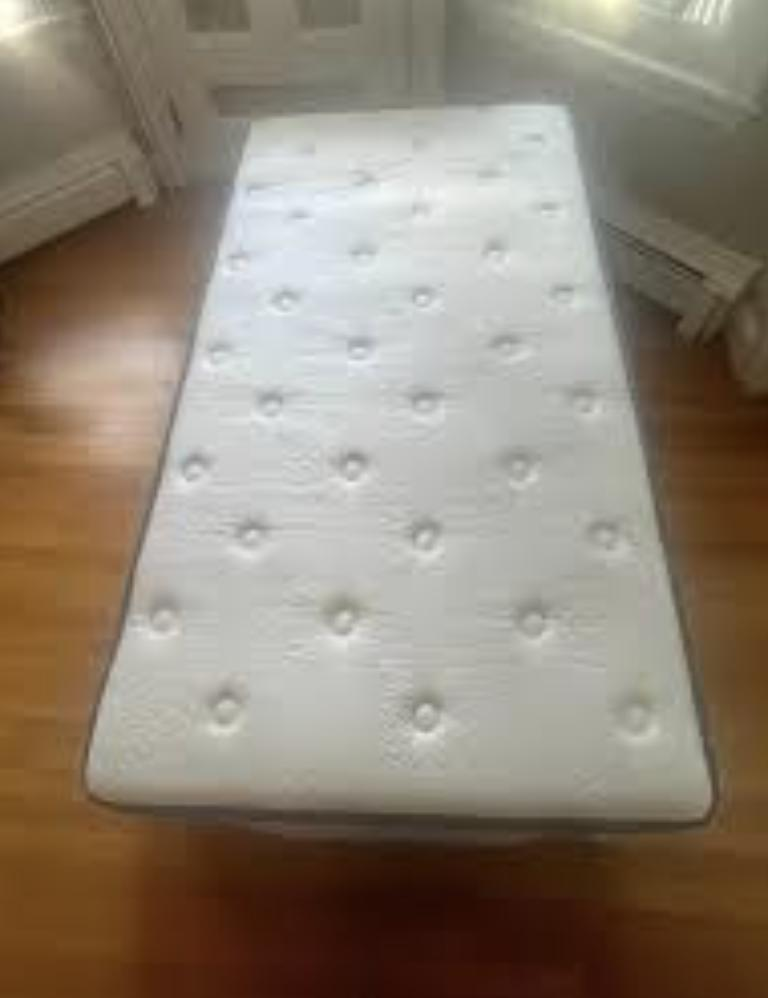Bed-Mattress: (62, 94, 740, 833)
